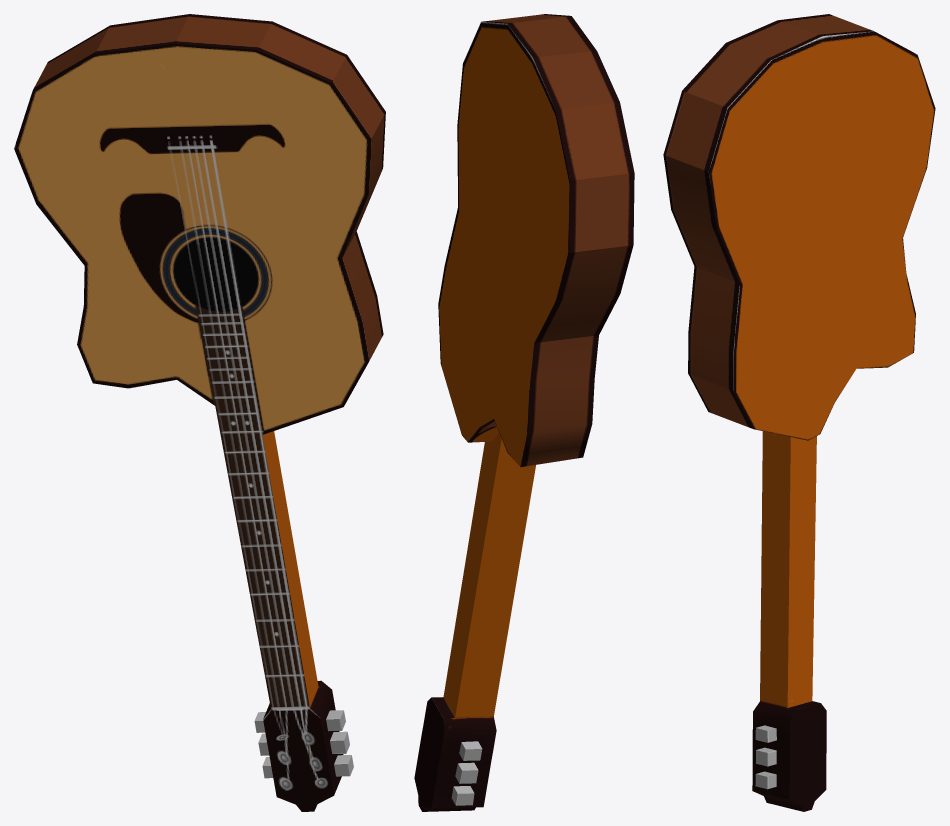
Rendered from Guitarra3_000019.obj.
The picture shows the model from 3 angles, left to right: view 1: azimuth 30°, elevation 25°; view 2: azimuth 150°, elevation 25°; view 3: azimuth 270°, elevation 25°; orthographic projection. The views are drawn at different scales.
Parts seen in each view (by area): view 1: Guitarra_2:pPlane4; view 2: Guitarra_2:pPlane4; view 3: Guitarra_2:pPlane4.
Boxes of the visible parts, box(x1,y1,x2,y2) form: Guitarra_2:pPlane4: box(14, 14, 385, 811); Guitarra_2:pPlane4: box(414, 14, 634, 811); Guitarra_2:pPlane4: box(663, 14, 935, 811).
Size of the model in its own units: 4.61 by 12.43 by 4.22.
